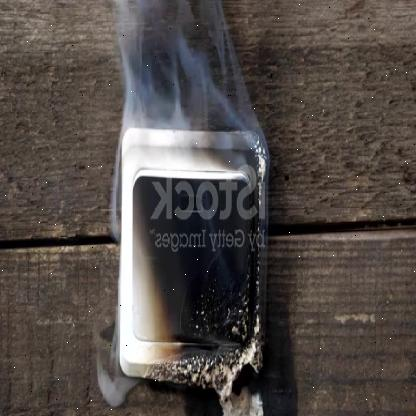smoke: (91, 0, 268, 409)
